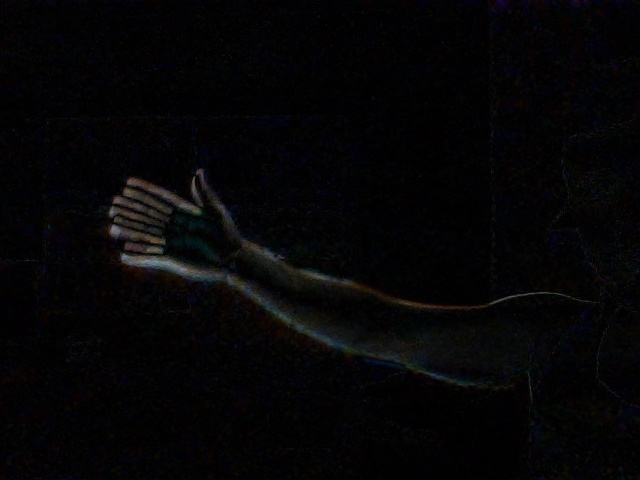hand_pa: (103, 151, 243, 295)
